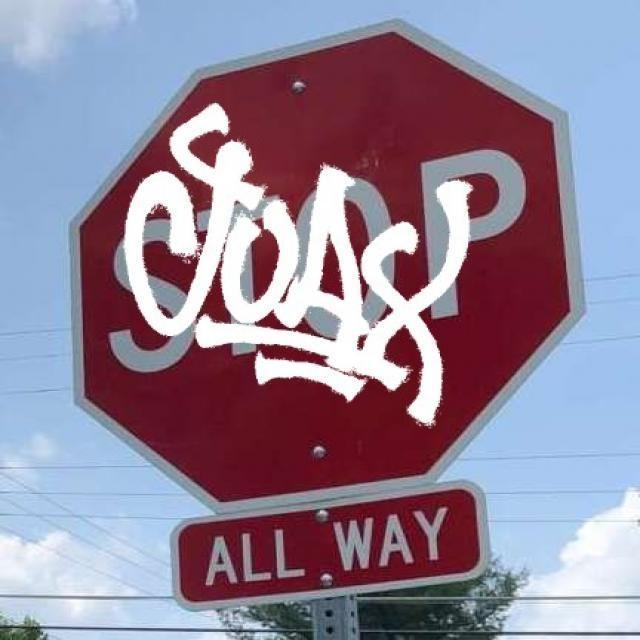Stop-Sign: (95, 35, 560, 488)
